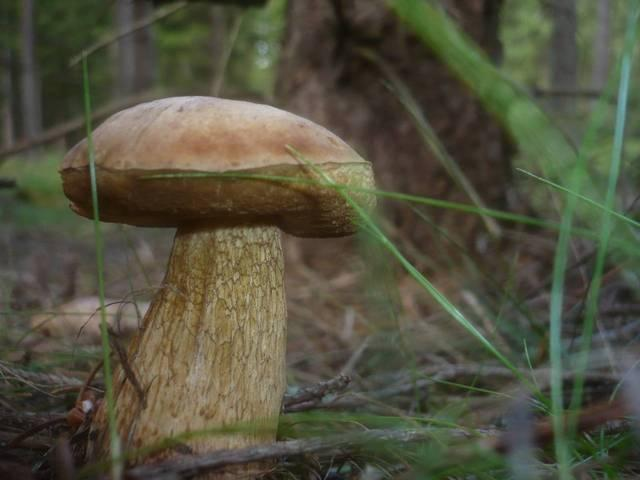Non-edible Mushroom: (57, 93, 378, 478)
